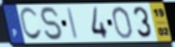3: (132, 5, 153, 40)
4: (90, 5, 109, 40)
C: (18, 6, 44, 43)
I: (66, 6, 79, 41)
O: (110, 5, 134, 40)
S: (39, 6, 65, 42)
